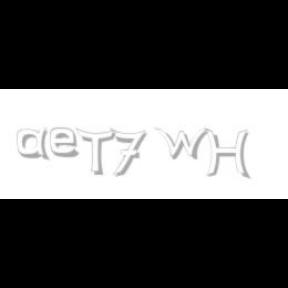7: (110, 128, 146, 178)
H: (204, 128, 250, 180)
T: (75, 128, 115, 176)
a: (16, 128, 54, 160)
e: (50, 128, 82, 158)
w: (154, 128, 214, 160)
